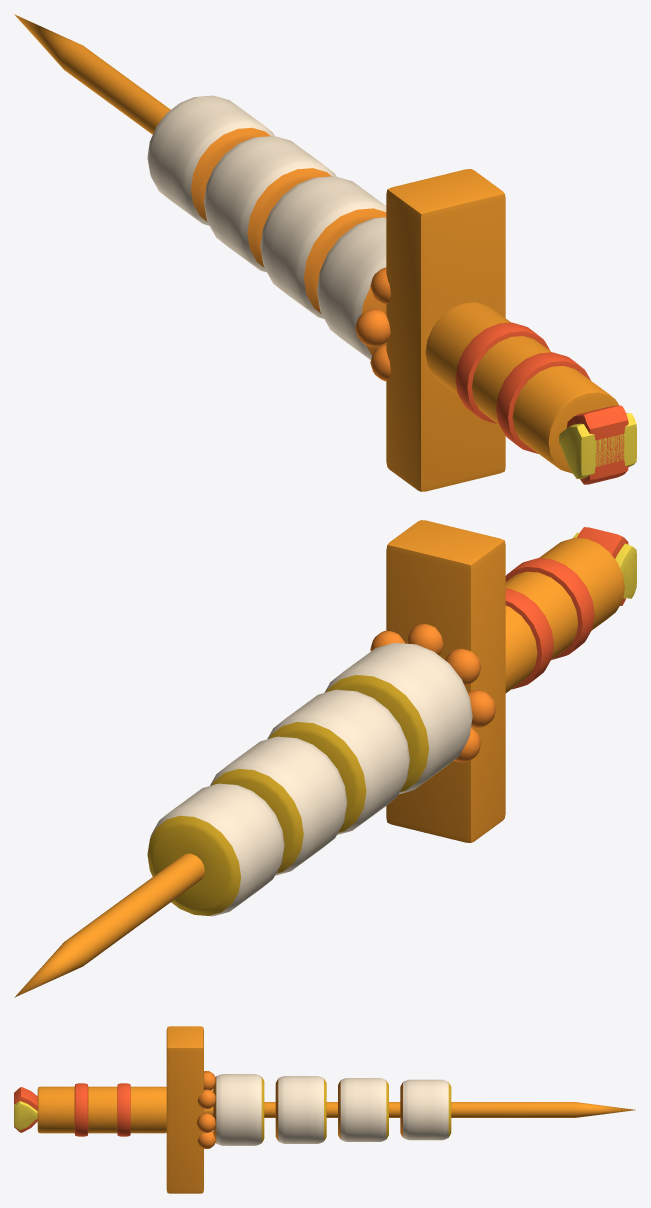
Rendered from Sword_ToastedMarshmallowBrand.glb.
The picture shows the model from 3 angles, top to bottom: view 1: azimuth 30°, elevation 25°; view 2: azimuth 150°, elevation 25°; view 3: azimuth 270°, elevation 25°; orthographic projection. The views are drawn at different scales.
Visible parts, largest first — view 1: Sword_ToastedMarshmallowBrand; view 2: Sword_ToastedMarshmallowBrand; view 3: Sword_ToastedMarshmallowBrand.
Part boxes in pixels (x1,y1,x2,y2): Sword_ToastedMarshmallowBrand: [14, 14, 636, 491]; Sword_ToastedMarshmallowBrand: [14, 520, 636, 997]; Sword_ToastedMarshmallowBrand: [14, 1026, 635, 1193].
Bounding box in the file's own units: 0.132 × 0.26 × 1.
Materials: 1 (1 with a texture image).
